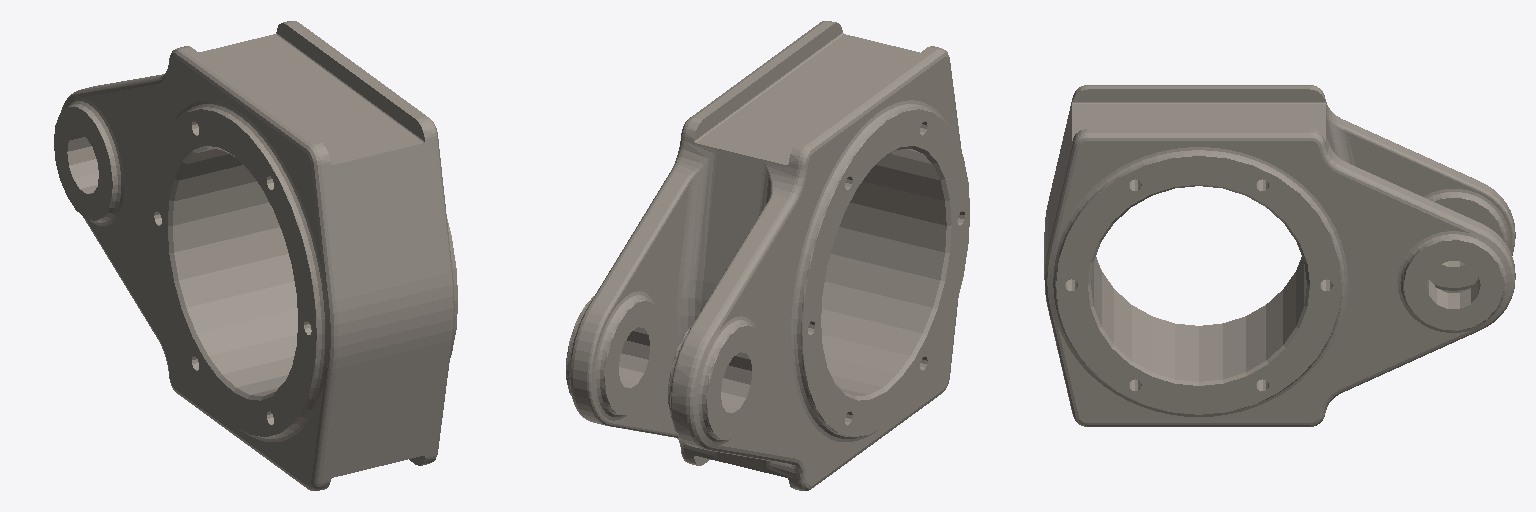
The robot description file, URDF, robot "lagerblok.SLDPRT":
<?xml version="1.0" encoding="utf-8"?>
<!-- This URDF was automatically created by SolidWorks to URDF Exporter! Originally created by [author] ([email redacted]) 
     Commit Version: 1.5.1-0-g916b5db  Build Version: 1.5.7152.31018
     For more information, please see http://wiki.ros.org/sw_urdf_exporter -->
<robot
  name="lagerblok.SLDPRT">
  <link
    name="lagerblok.SLDPRT">
    <inertial>
      <origin
        xyz="0.04 0.024666 5.80039998489693E-10"
        rpy="0 0 0" />
      <mass
        value="0.13107" />
      <inertia
        ixx="5.2618E-05"
        ixy="1.5568E-12"
        ixz="7.484E-12"
        iyy="2.3489E-05"
        iyz="-2.77679999195801E-13"
        izz="3.6623E-05" />
    </inertial>
    <visual>
      <origin
        xyz="0 0 0"
        rpy="1.5707963267949 0 0" />
      <geometry>
        <mesh
          filename="package://suii_description/Field/objects/meshes/bearingblock.STL" />
      </geometry>
      <material
        name="">
        <color
          rgba="0.64706 0.61961 0.58824 1" />
        <texture
          filename="package://suii_description/Field/objects/textures/" />
      </material>
    </visual>
    <collision>
      <origin
        xyz="0 0 0"
        rpy="1.5707963267949 0 0" />
      <geometry>
        <mesh
          filename="package://suii_description/Field/objects/meshes/bearingblock.STL" />
      </geometry>
    </collision>
  </link>
</robot>

--- Facts derived from the render (not from the file) ---
The picture shows the robot from 3 angles, left to right: view 1: azimuth 30°, elevation 25°; view 2: azimuth 150°, elevation 25°; view 3: azimuth 270°, elevation 25°; orthographic projection.
Model lagerblok.SLDPRT with 1 links and 0 joints (none), rooted at lagerblok.SLDPRT, posed every joint at zero.
Visible links, largest first — view 1: lagerblok.SLDPRT; view 2: lagerblok.SLDPRT; view 3: lagerblok.SLDPRT.
Boxes of the visible links, <box> form: lagerblok.SLDPRT: <box>54,21,457,490</box>; lagerblok.SLDPRT: <box>566,21,969,490</box>; lagerblok.SLDPRT: <box>1044,85,1515,426</box>.
Size in the robot's own frame: 0.018 by 0.061 by 0.042 metres.
Meshes: 1 distinct files referenced, 1 mesh visuals loaded (1 binary STL).
